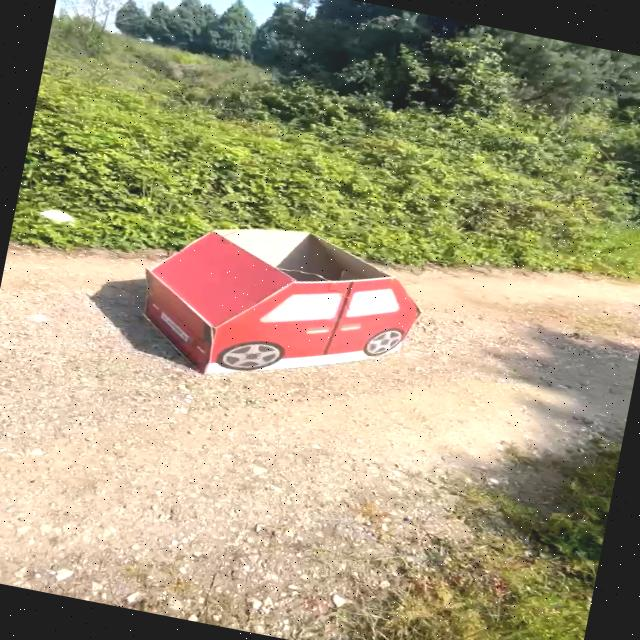red_car: (93, 194, 465, 421)
